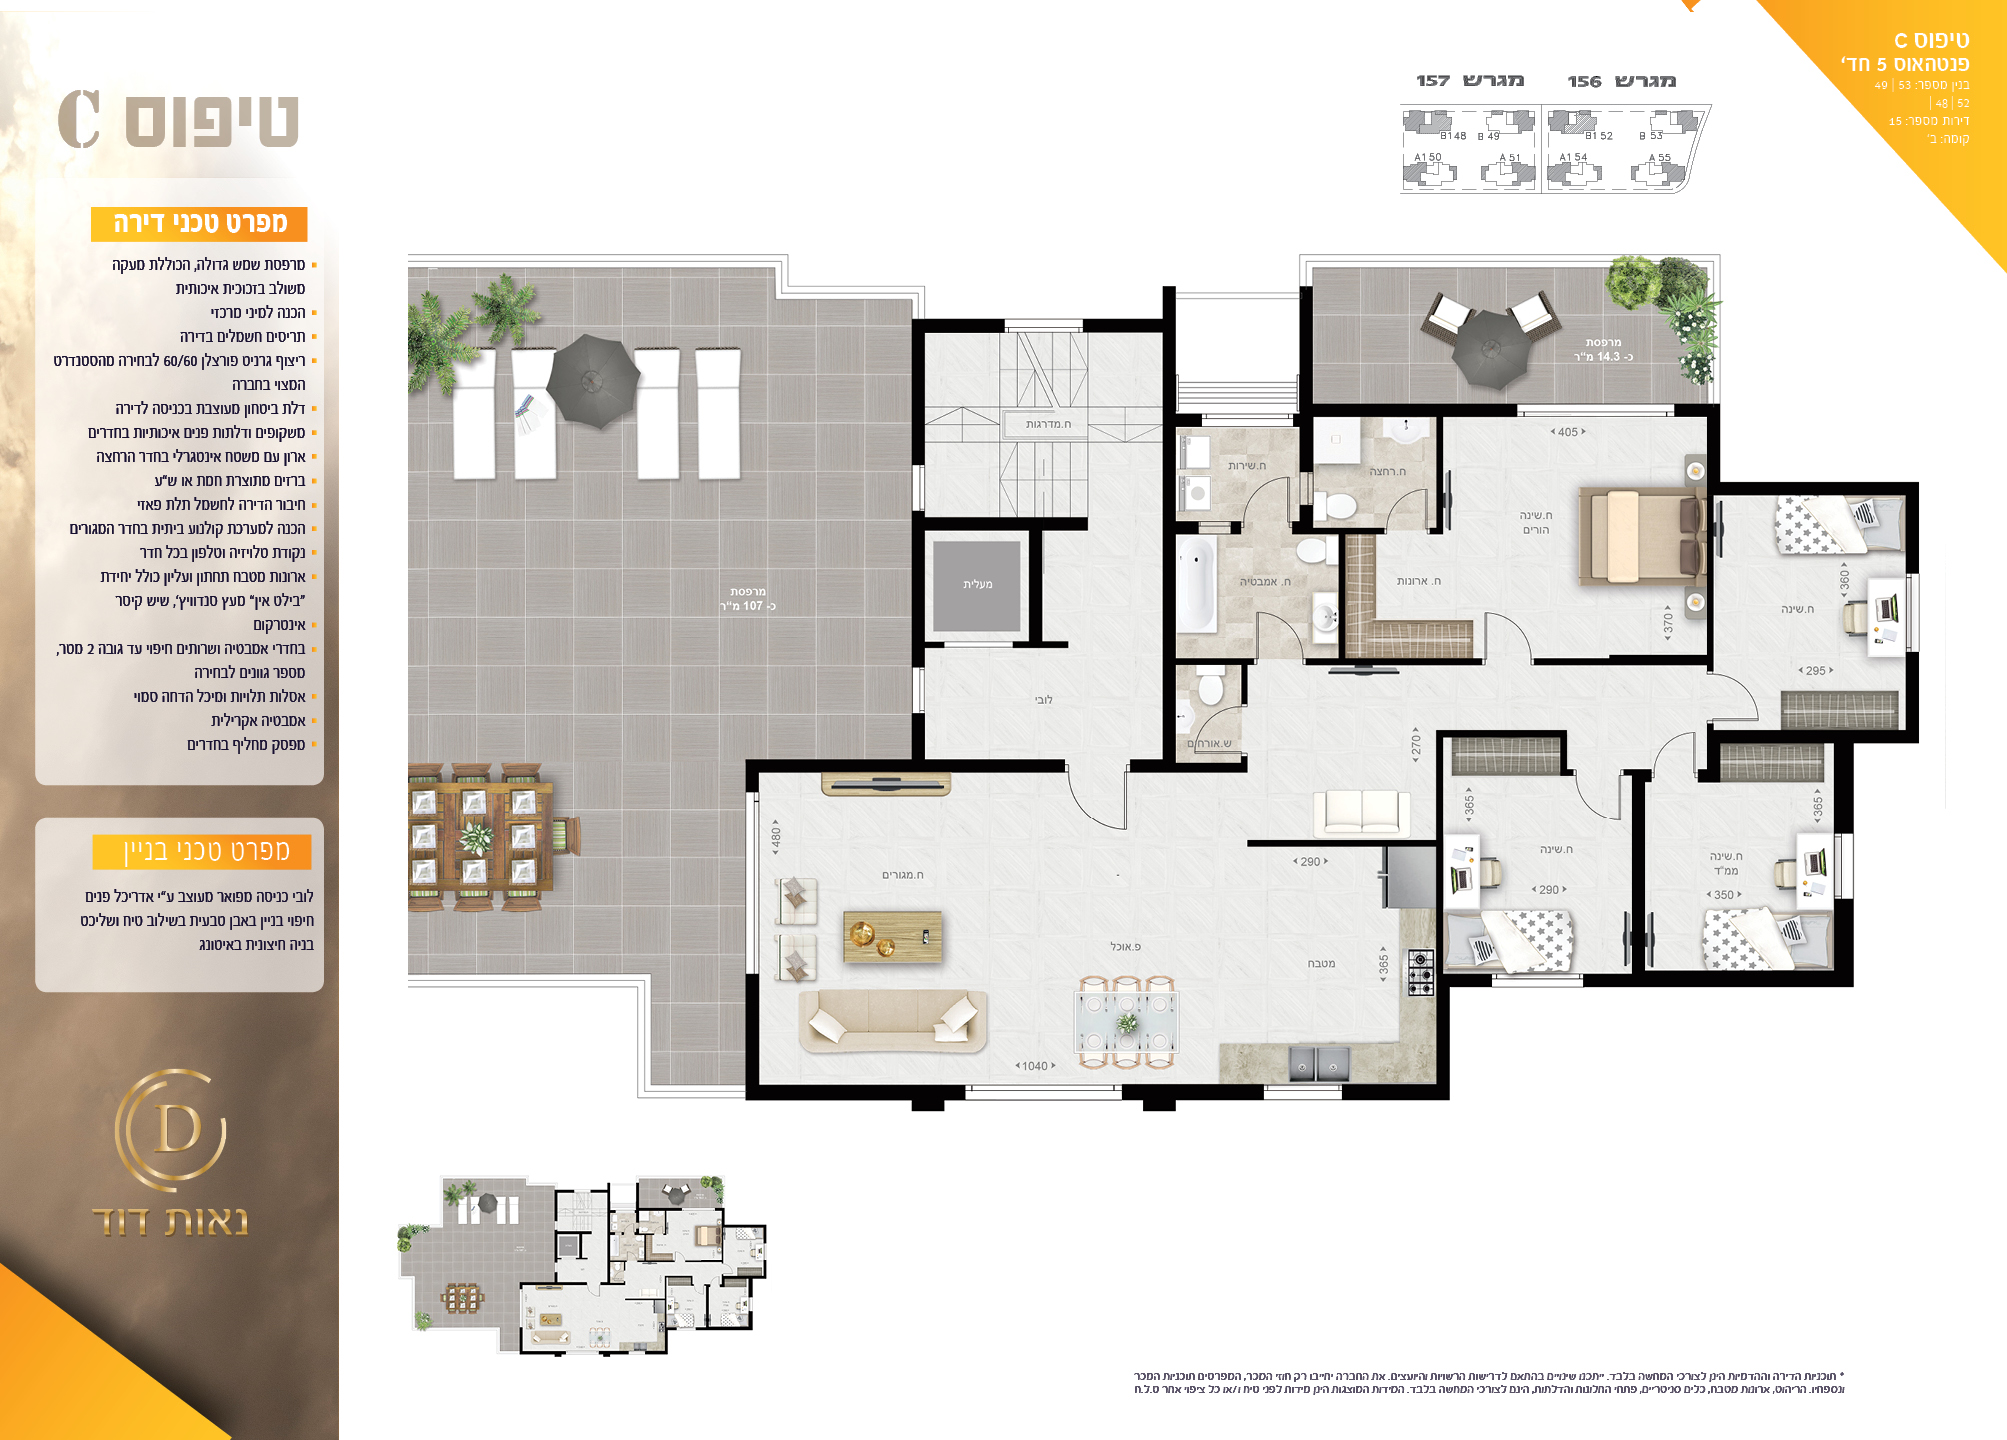door: (1240, 471, 1293, 522), (1254, 606, 1307, 653), (1720, 672, 1765, 726), (1480, 609, 1532, 655), (1569, 781, 1621, 824), (1384, 485, 1430, 527), (1653, 728, 1698, 764)
wall: (1162, 287, 1175, 771), (746, 761, 1063, 775)
window: (965, 1086, 1120, 1100), (1203, 411, 1293, 429), (1264, 1082, 1340, 1099)
